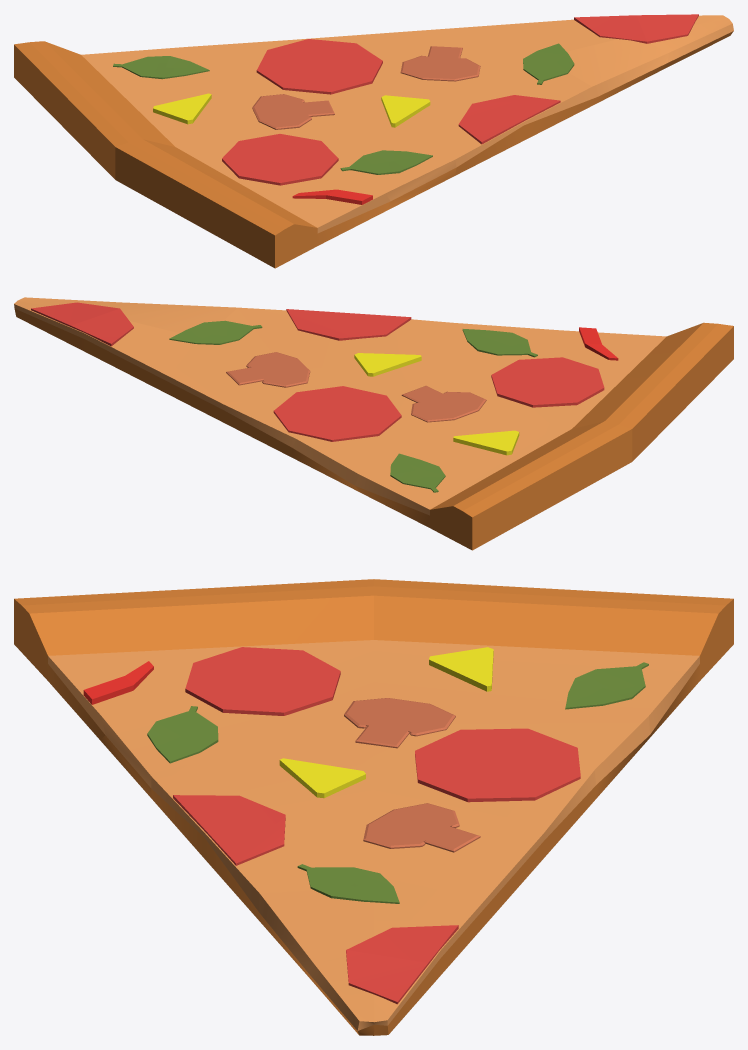
Rendered from PizzaFood_02.fbx.
3 views of the same model, one above another, from view 1: azimuth 30°, elevation 25°; view 2: azimuth 150°, elevation 25°; view 3: azimuth 270°, elevation 25° (orthographic). The views are drawn at different scales.
Visible parts, largest first — view 1: PizzaFood_02; view 2: PizzaFood_02; view 3: PizzaFood_02.
Boxes of the visible parts, left/top/right/bottom form: PizzaFood_02: left=14, top=14, right=733, bottom=268; PizzaFood_02: left=14, top=297, right=733, bottom=550; PizzaFood_02: left=14, top=579, right=733, bottom=1035.
Size of the model in its own units: 13.92 by 0.7555 by 10.26.
